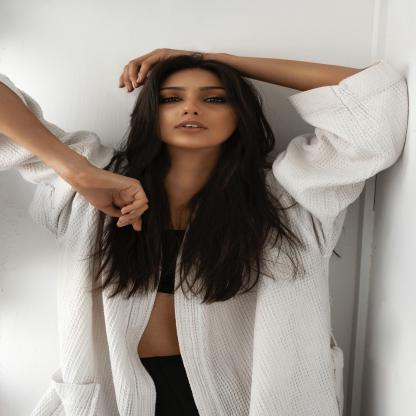Eye: (156, 93, 182, 105), (203, 93, 229, 105)
Mouth: (173, 119, 210, 133)
Nose: (182, 98, 203, 118)
